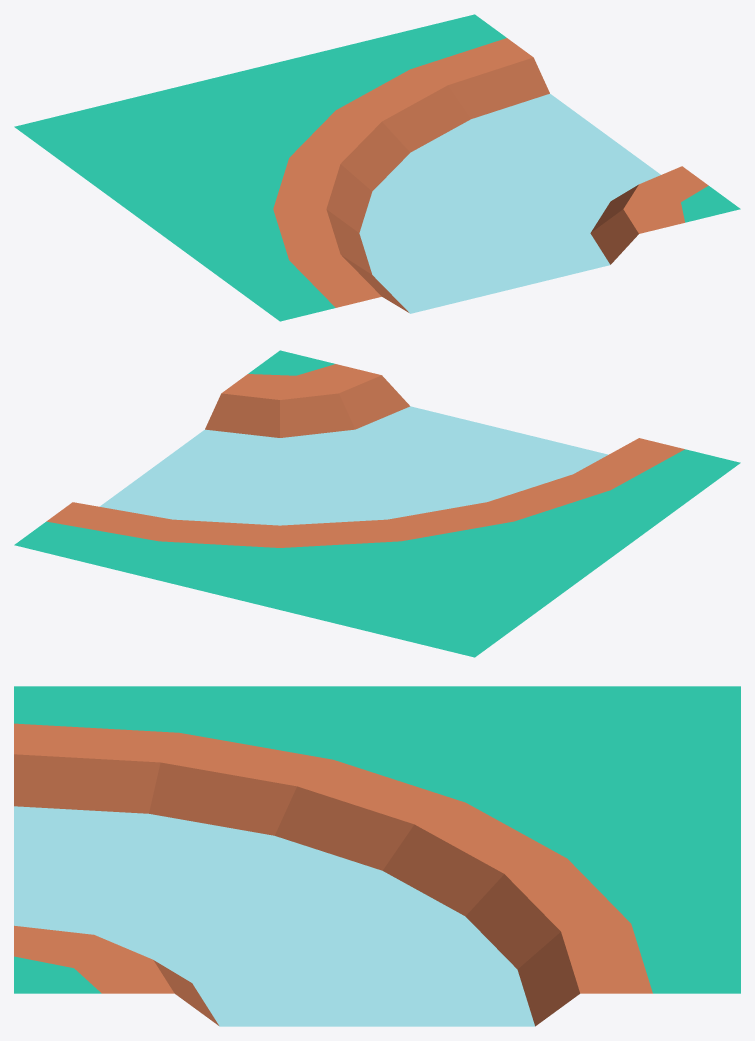
Rendered from ground_riverBend.glb.
The picture shows the model from 3 angles, top to bottom: view 1: azimuth 30°, elevation 25°; view 2: azimuth 150°, elevation 25°; view 3: azimuth 270°, elevation 25°; orthographic projection. The views are drawn at different scales.
Parts seen in each view (by area): view 1: ground_riverBend; view 2: ground_riverBend; view 3: ground_riverBend.
Boxes of the visible parts, x1=… form: ground_riverBend: x1=14, y1=14, x2=740, y2=321; ground_riverBend: x1=14, y1=350, x2=740, y2=657; ground_riverBend: x1=14, y1=686, x2=740, y2=1026.
Bounding box in the file's own units: 1 × 0.05 × 1.
